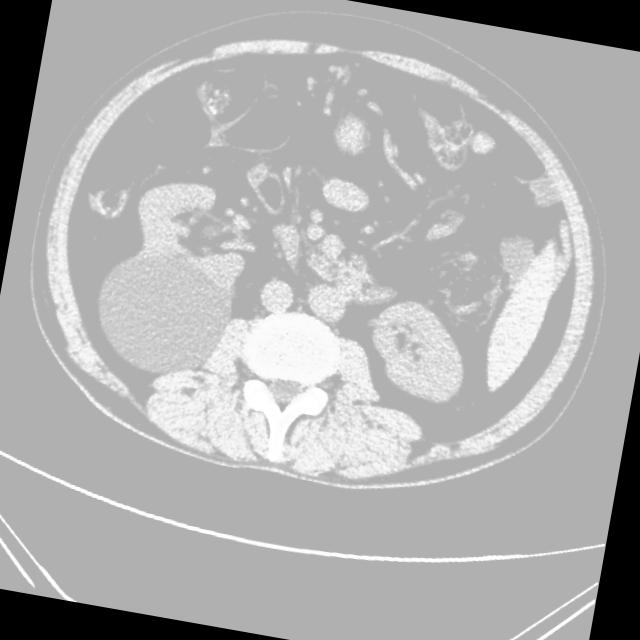cysts: (12, 0, 634, 524)
